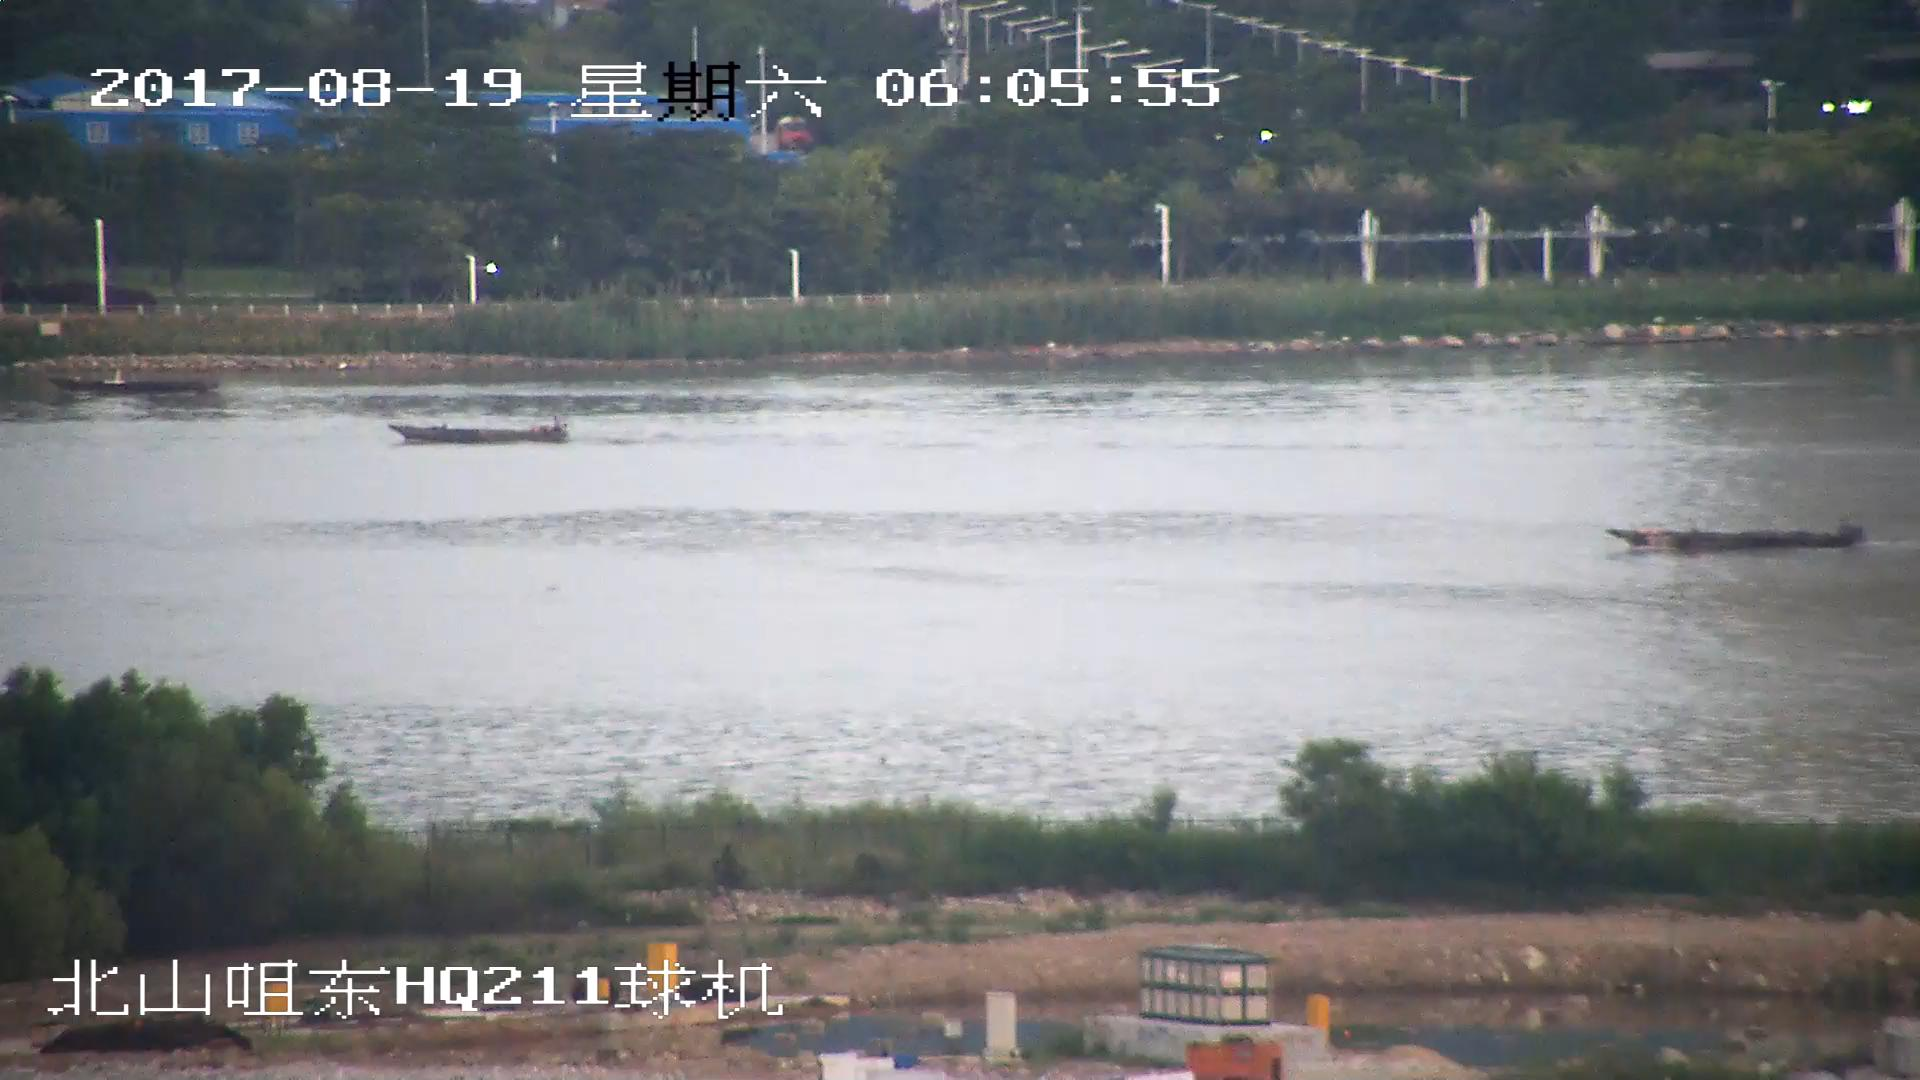fishing boat: (1602, 512, 1861, 553), (390, 412, 568, 449), (53, 369, 215, 394)
